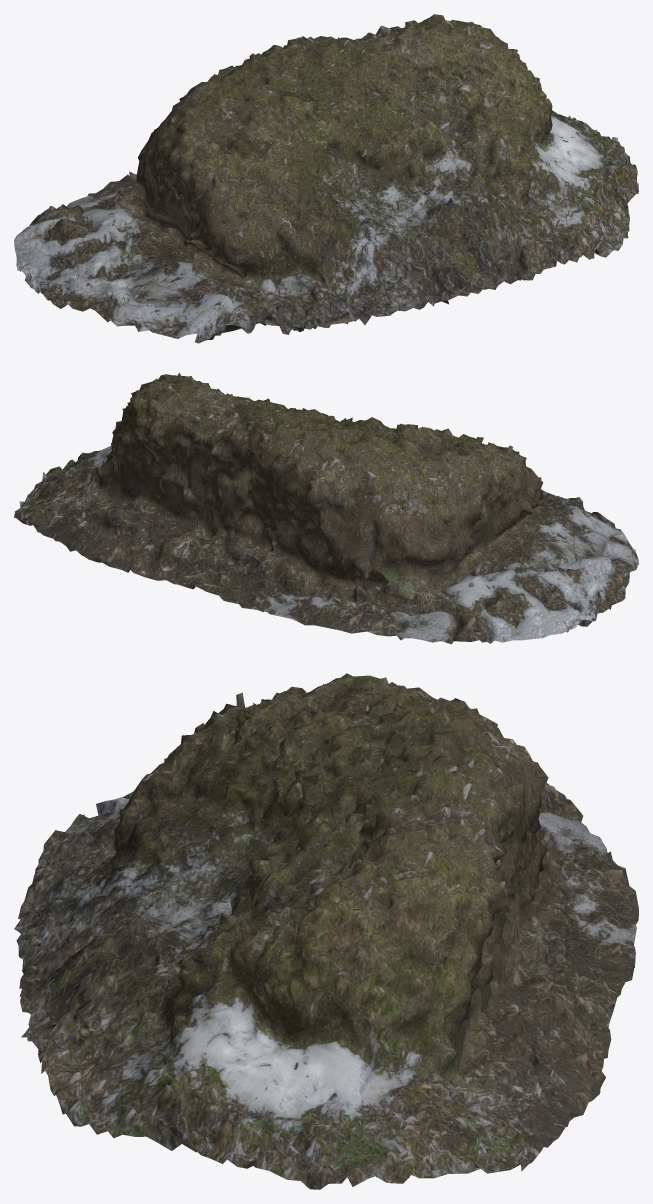
The model's file is PX_Mossy_Stone_01_LOD1.fbx.
The picture shows the model from 3 angles, top to bottom: view 1: azimuth 30°, elevation 25°; view 2: azimuth 150°, elevation 25°; view 3: azimuth 270°, elevation 25°; orthographic projection. The views are drawn at different scales.
Parts seen in each view (by area): view 1: PX_Mossy_Stone_01_LOD1; view 2: PX_Mossy_Stone_01_LOD1; view 3: PX_Mossy_Stone_01_LOD1.
Part boxes in pixels (x1,y1,x2,y2): PX_Mossy_Stone_01_LOD1: (14, 14, 638, 343); PX_Mossy_Stone_01_LOD1: (14, 372, 638, 644); PX_Mossy_Stone_01_LOD1: (14, 673, 638, 1189).
Bounding box in the file's own units: 242 × 63.99 × 149.
